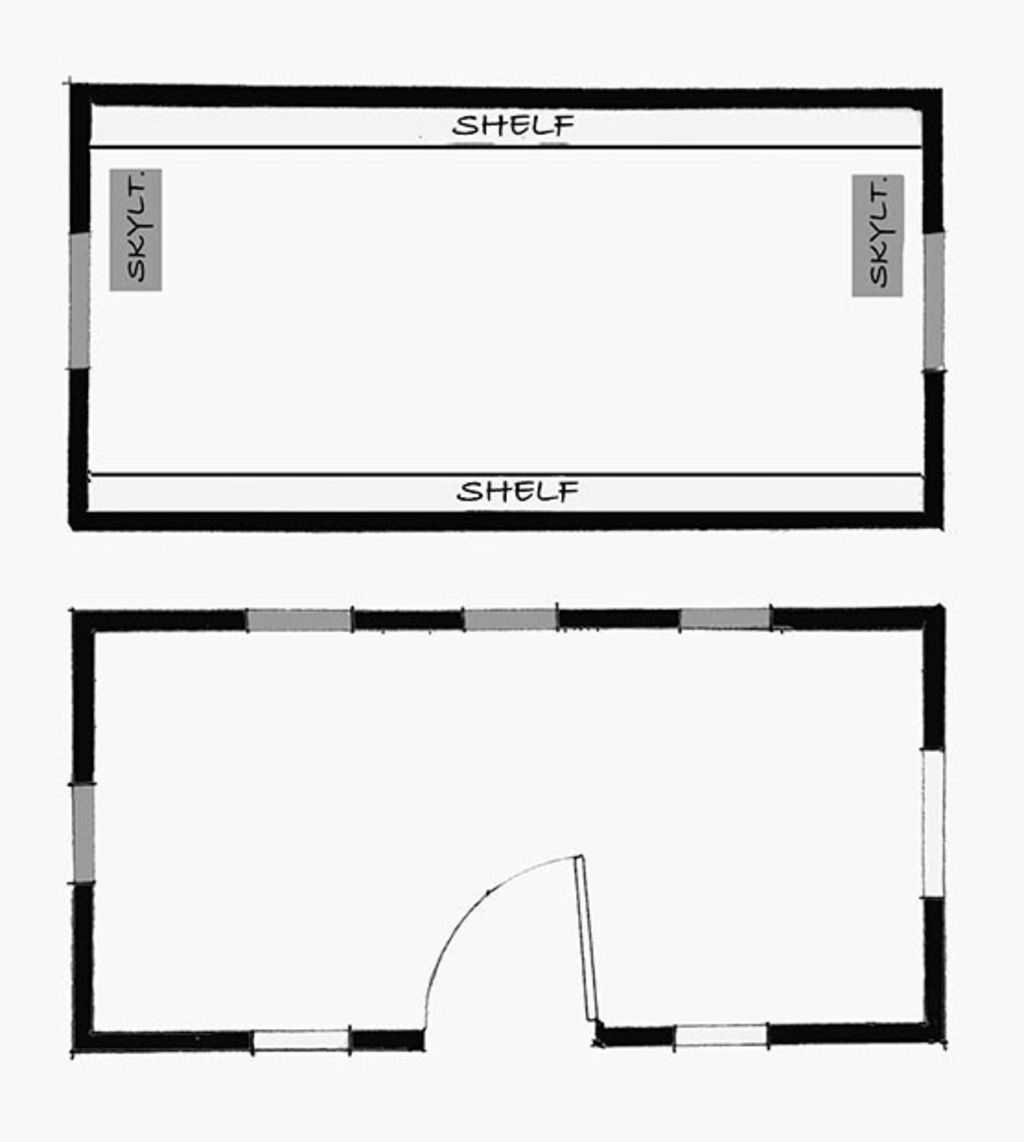door: (417, 854, 603, 1038)
windows: (918, 741, 958, 904), (238, 1024, 362, 1064), (65, 777, 105, 893), (668, 1019, 782, 1056)
